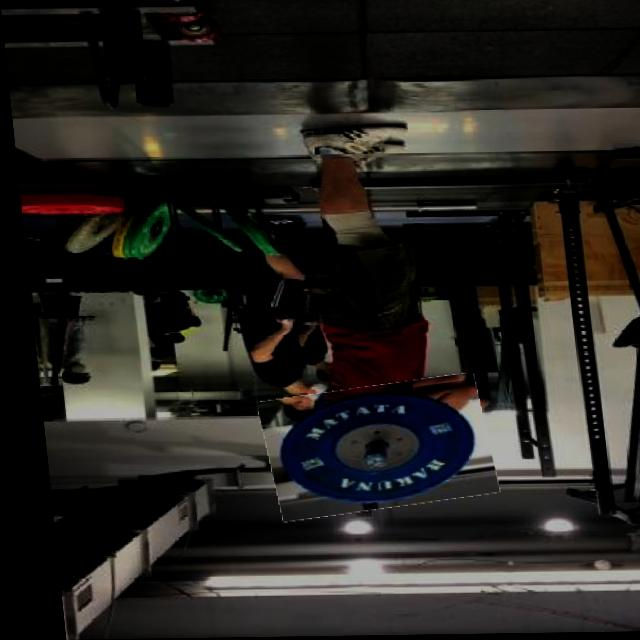barbell: (250, 381, 489, 518)
